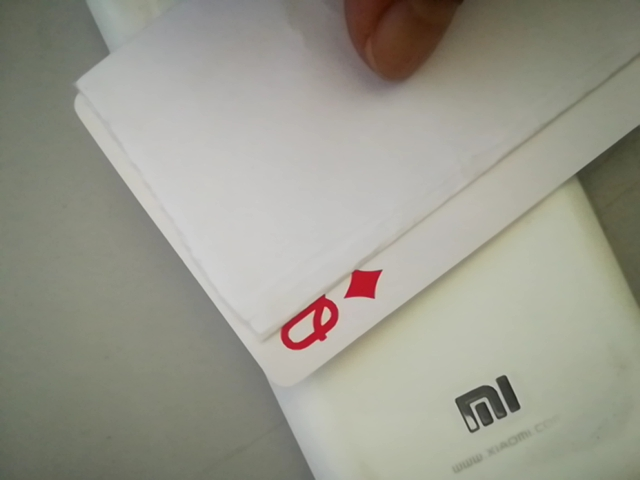fk q: (266, 265, 387, 366)
